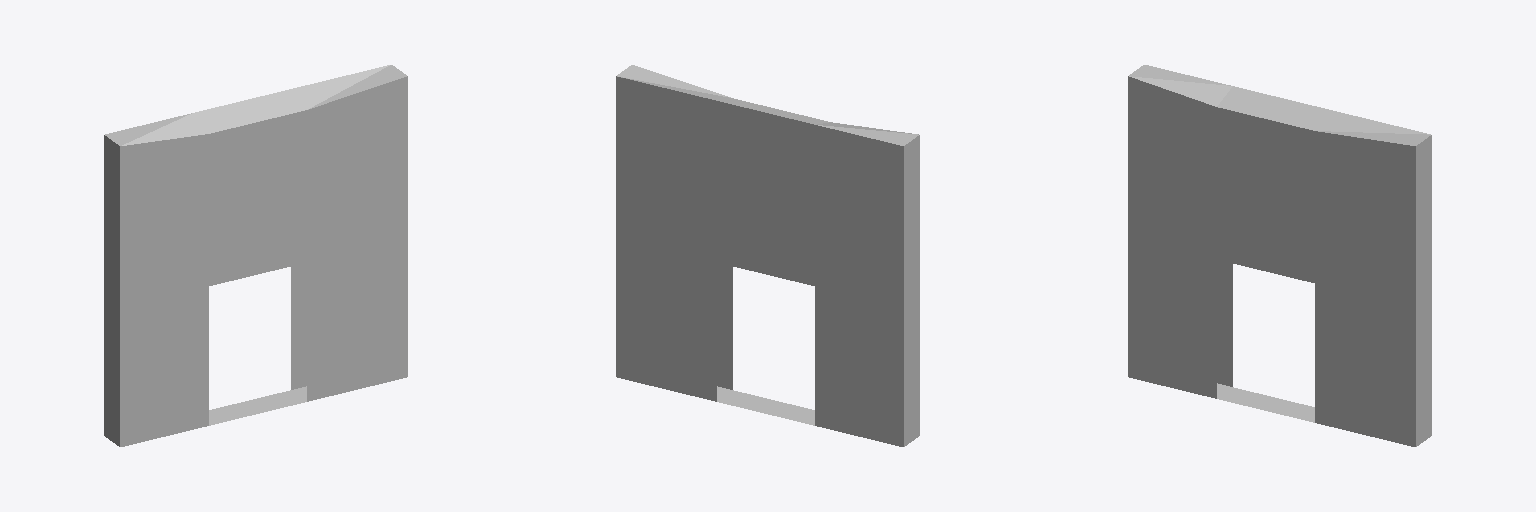
Rendered from wall.obj.
3 views of the same model, side by side, from view 1: azimuth 30°, elevation 25°; view 2: azimuth 150°, elevation 25°; view 3: azimuth 330°, elevation 25° (orthographic).
Parts seen in each view (by area): view 1: Cube_Cube.003; view 2: Cube_Cube.003; view 3: Cube_Cube.003.
Boxes of the visible parts, x1=… form: Cube_Cube.003: x1=104, y1=65, x2=407, y2=446; Cube_Cube.003: x1=616, y1=65, x2=919, y2=446; Cube_Cube.003: x1=1128, y1=65, x2=1431, y2=446.
Bounding box in the file's own units: 2 × 2 × 0.1934.